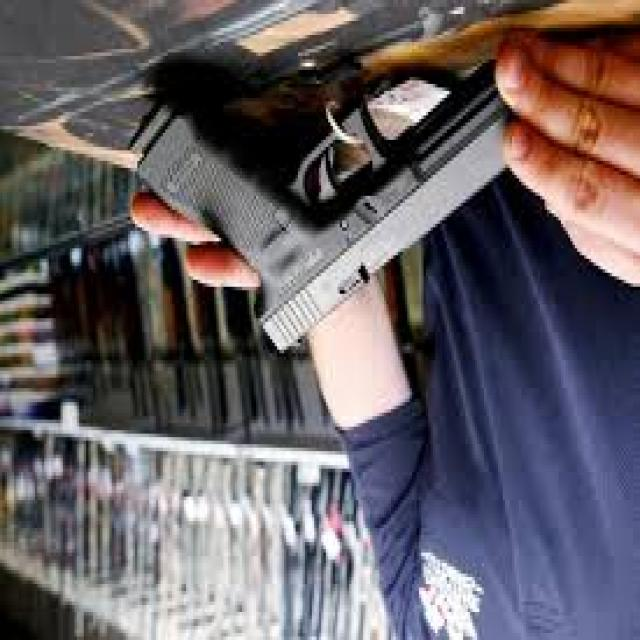gun: (81, 9, 558, 375)
